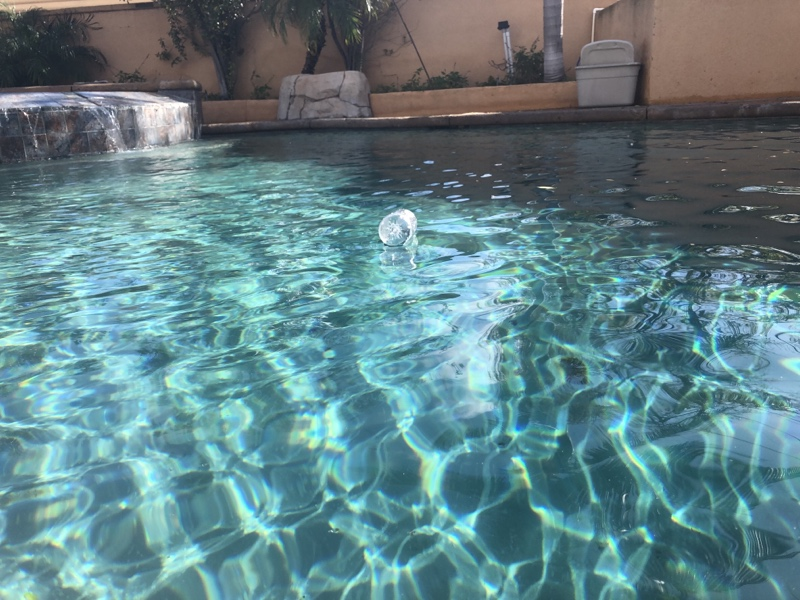Plastic Bottle: (376, 209, 419, 245)
